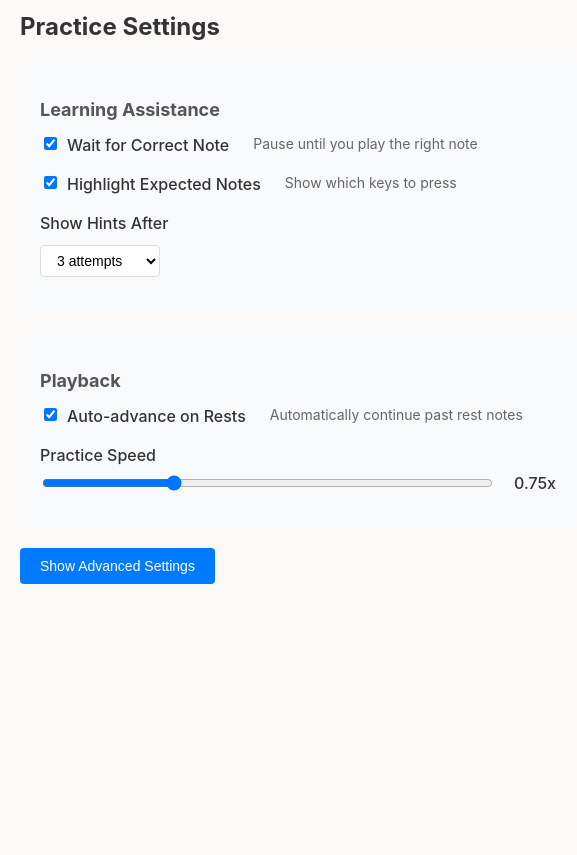
Practice Settings UI › Advanced Settings › should toggle advanced settings visibility
This screenshot has width=577, height=855.
Step 1. Click the button "Show Advanced Settings" → {"x": 117, "y": 566}, box [20,548,215,584]
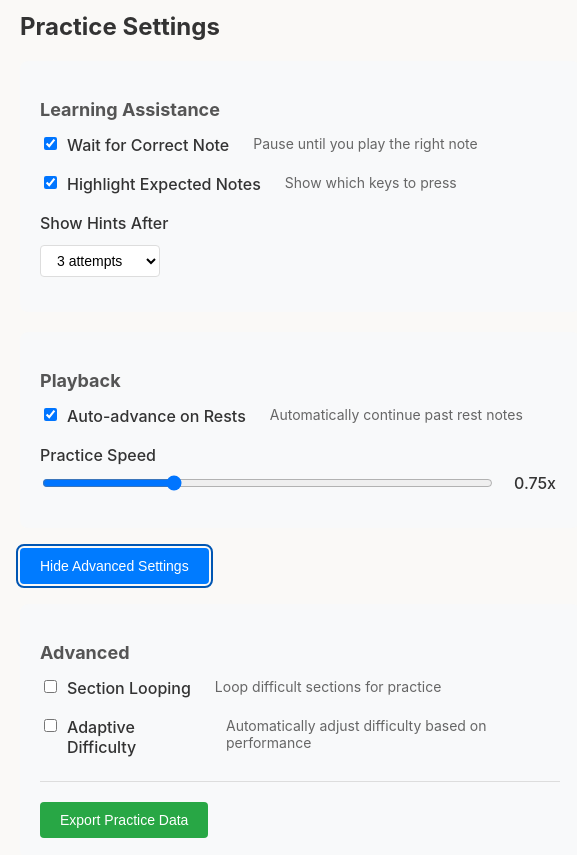
Now the button "Hide Advanced Settings" is shown
Step 2. Click the button "Hide Advanced Settings" → {"x": 114, "y": 566}, box [20,548,209,584]
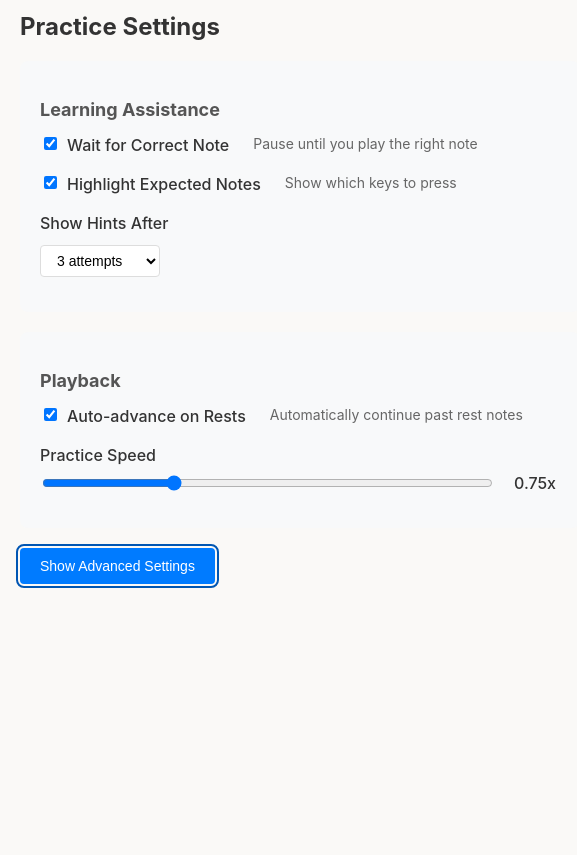
Now the text "Section Looping" is gone
